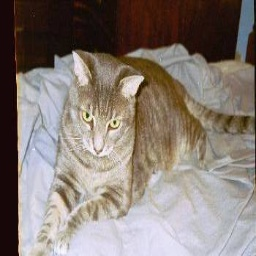cat: (31, 43, 239, 256)
